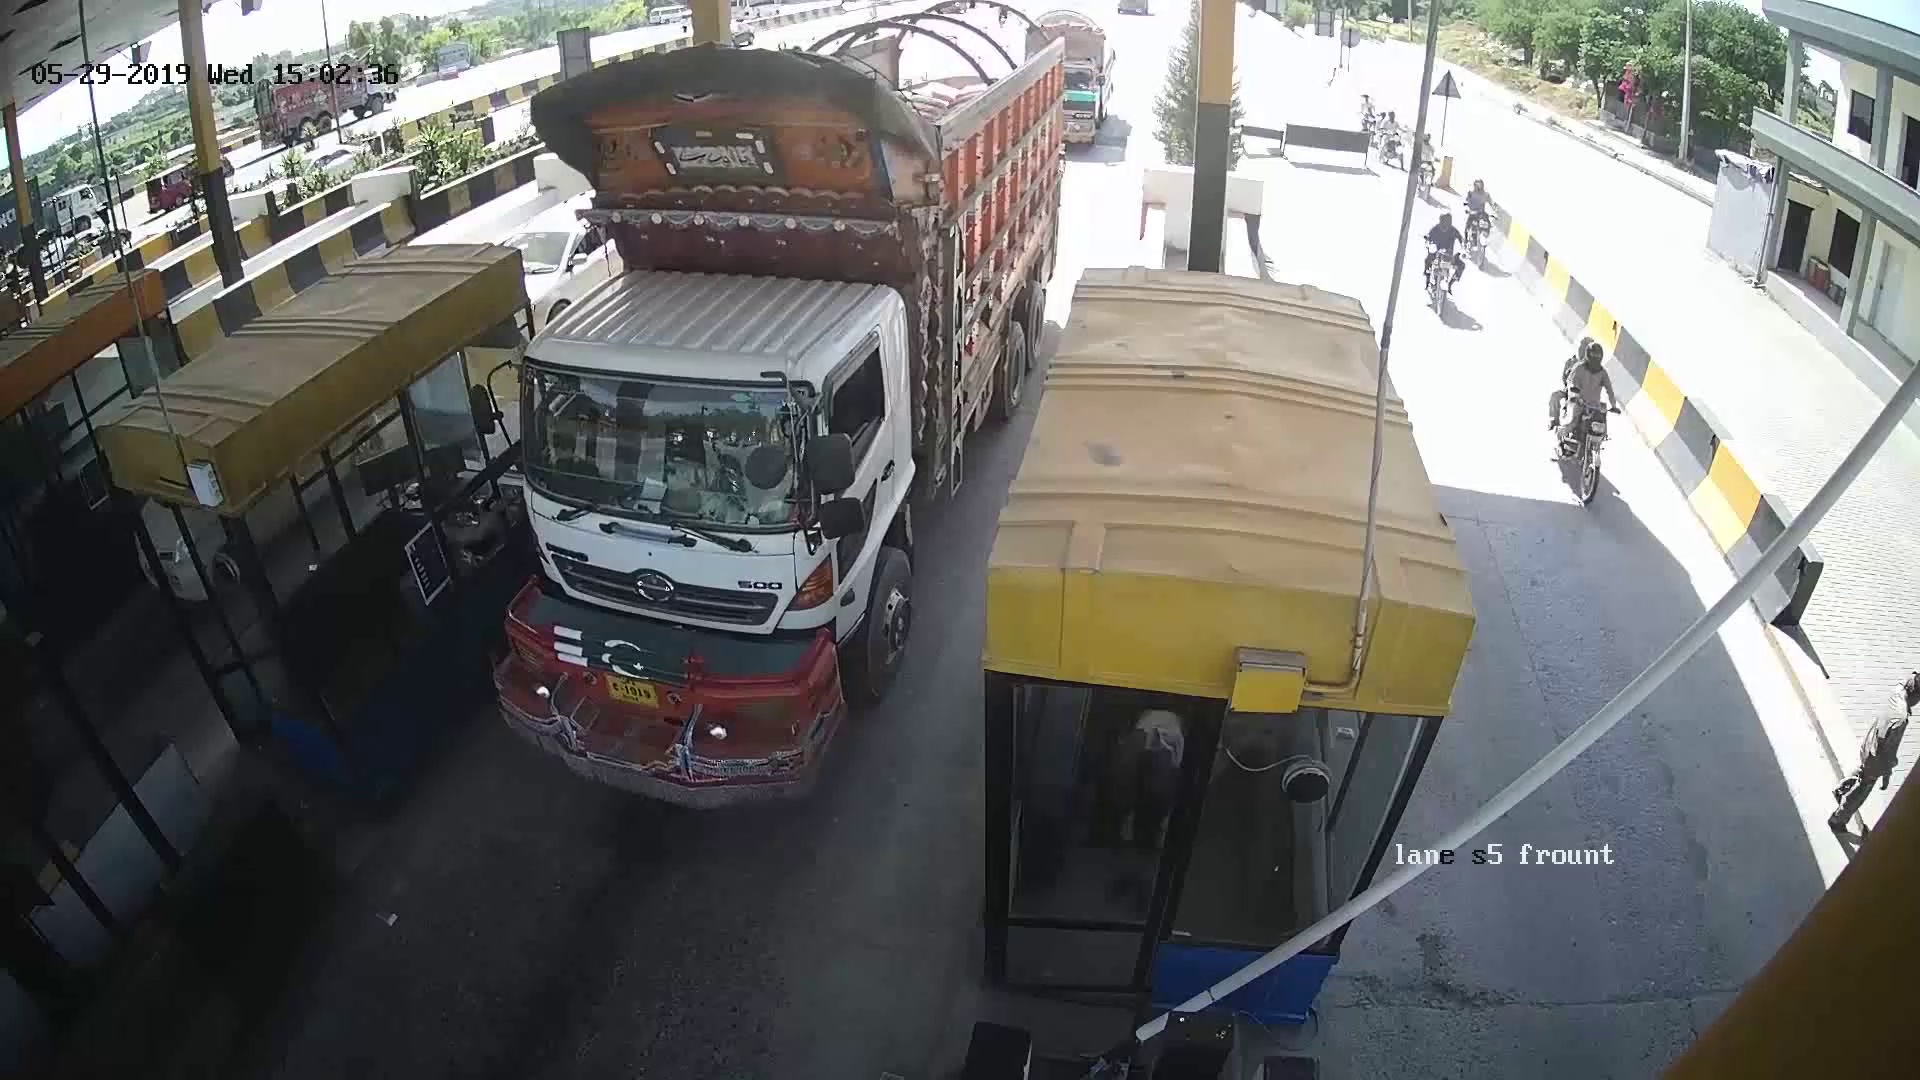truck: (560, 58, 1064, 829)
